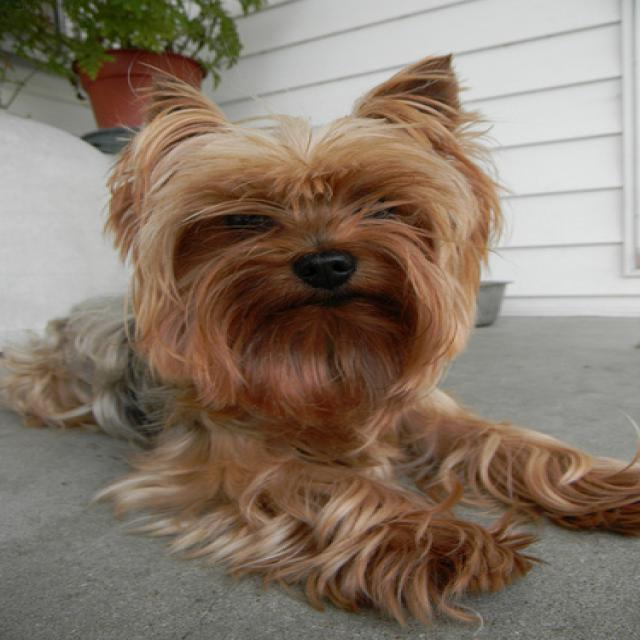dog-yorkshire_terrier: (2, 36, 637, 637)
